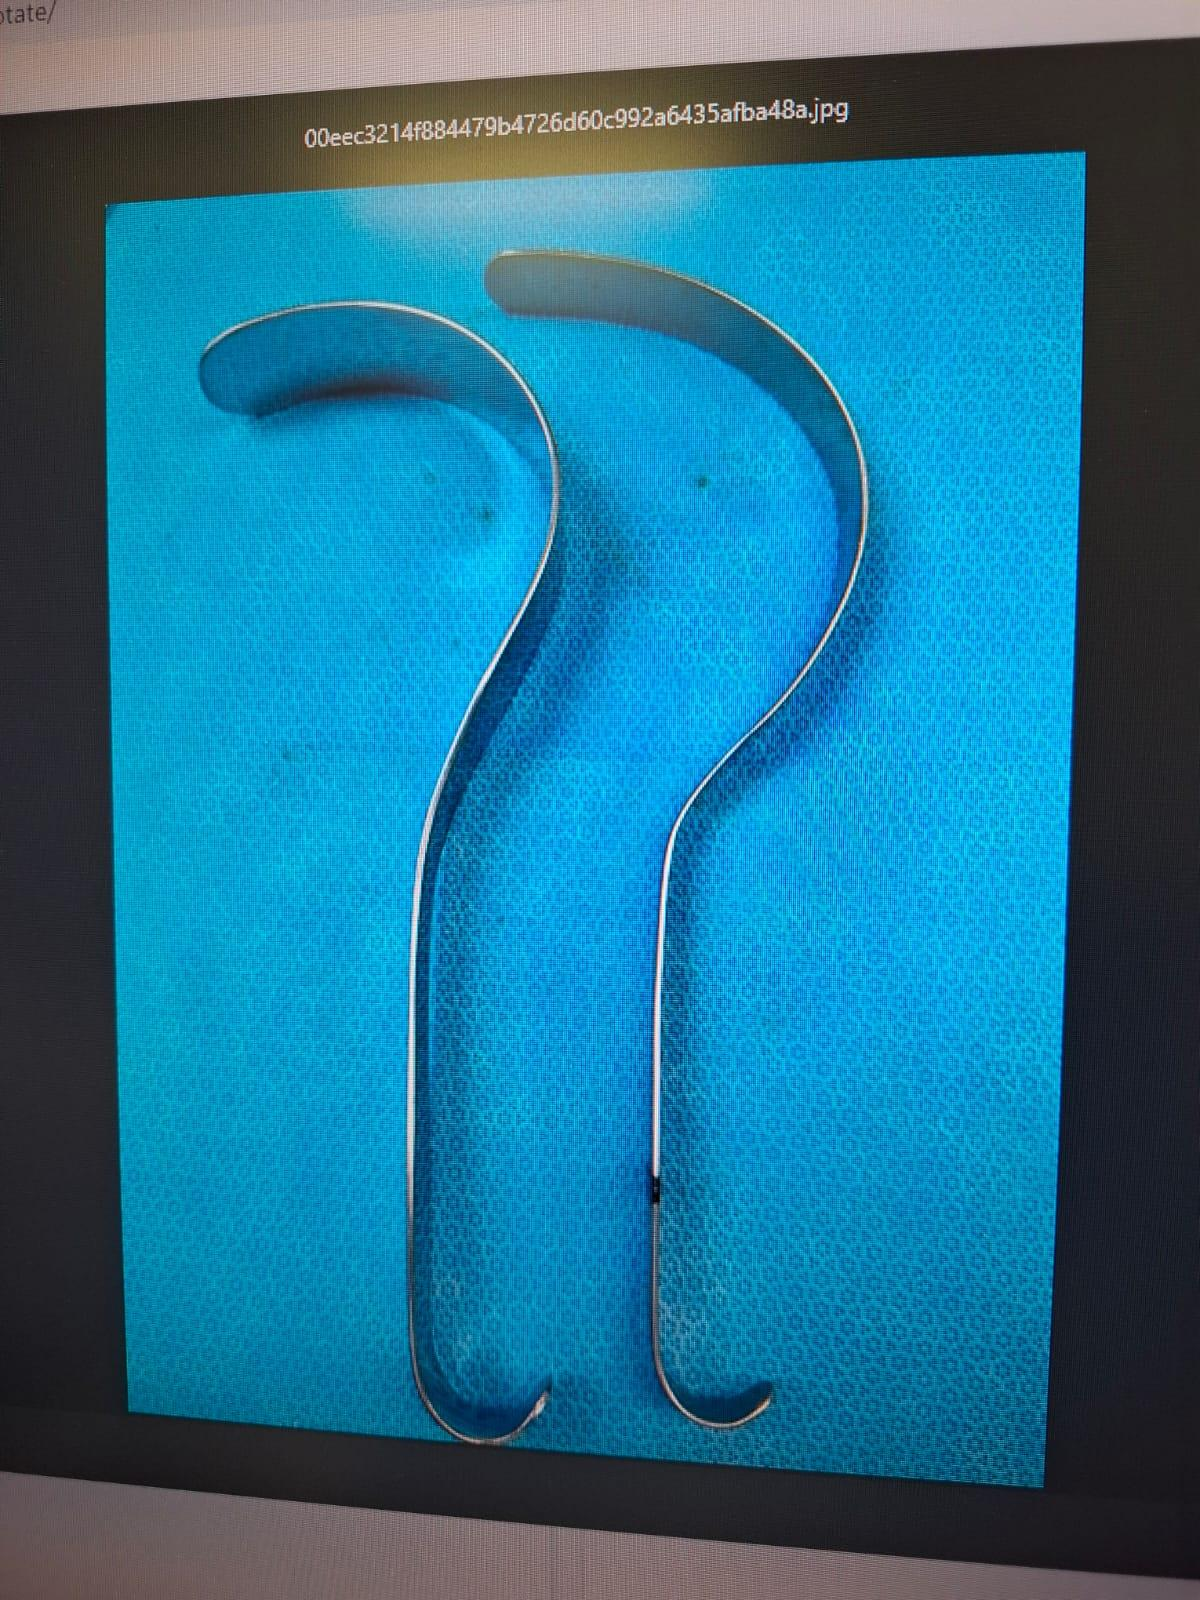Deaver Retractor: (473, 238, 890, 1448), (195, 290, 605, 1460)
